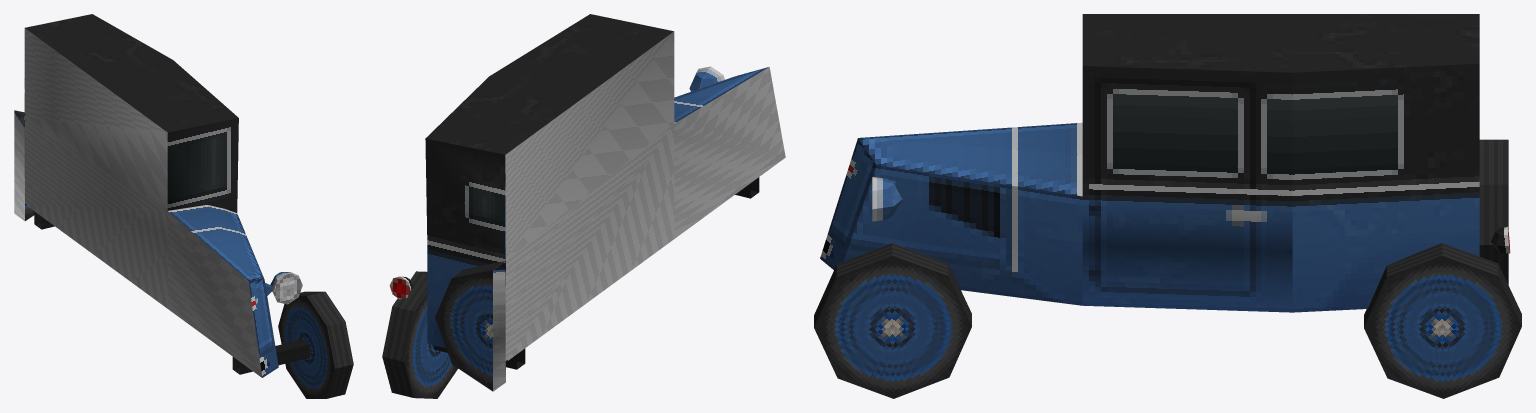
Rendered from Car7.glb.
3 views of the same model, side by side, from view 1: azimuth 30°, elevation 25°; view 2: azimuth 150°, elevation 25°; view 3: azimuth 270°, elevation 25° (orthographic). The views are drawn at different scales.
Parts seen in each view (by area): view 1: Car7; view 2: Car7; view 3: Car7.
Part boxes in pixels (x1,y1,x2,y2): Car7: (14,14,353,398); Car7: (382,14,785,398); Car7: (814,14,1521,398).
Size of the model in its own units: 1.14 by 2.86 by 5.66.
1 material, 1 textured.
